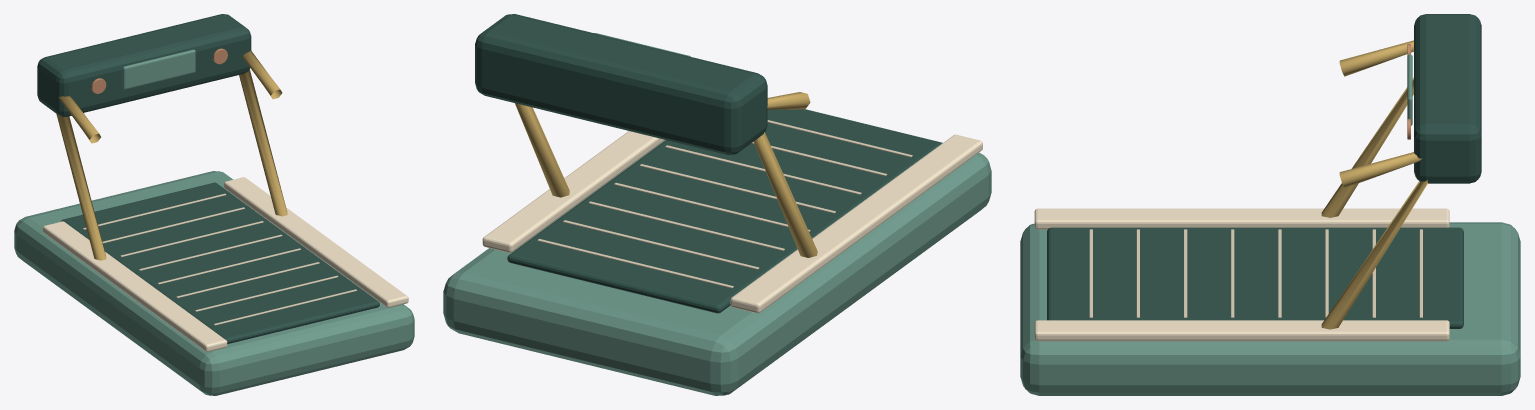
File: treadmill.glb
The picture shows the model from 3 angles, left to right: view 1: azimuth 30°, elevation 25°; view 2: azimuth 150°, elevation 25°; view 3: azimuth 270°, elevation 25°; orthographic projection. The views are drawn at different scales.
Visible parts, largest first — view 1: treadmill / Dark hardware, treadmill / Sea glass upholstery, treadmill / Ivory stone, treadmill / Brass, treadmill / Linen shadow, treadmill / Terracotta cushion; view 2: treadmill / Dark hardware, treadmill / Sea glass upholstery, treadmill / Ivory stone, treadmill / Linen shadow, treadmill / Brass; view 3: treadmill / Dark hardware, treadmill / Sea glass upholstery, treadmill / Ivory stone, treadmill / Brass, treadmill / Linen shadow.
Boxes of the visible parts, x1,y1,x2,y2 form: treadmill / Dark hardware: [37, 14, 379, 343]; treadmill / Sea glass upholstery: [14, 49, 414, 395]; treadmill / Ivory stone: [42, 177, 408, 351]; treadmill / Brass: [56, 51, 287, 260]; treadmill / Linen shadow: [83, 193, 356, 325]; treadmill / Terracotta cushion: [91, 48, 227, 93]; treadmill / Dark hardware: [475, 14, 941, 313]; treadmill / Sea glass upholstery: [443, 33, 991, 395]; treadmill / Ivory stone: [482, 131, 982, 313]; treadmill / Linen shadow: [537, 120, 912, 288]; treadmill / Brass: [515, 92, 817, 257]; treadmill / Dark hardware: [1047, 14, 1481, 328]; treadmill / Sea glass upholstery: [1020, 54, 1520, 395]; treadmill / Ivory stone: [1034, 208, 1449, 341]; treadmill / Brass: [1321, 40, 1427, 329]; treadmill / Linen shadow: [1089, 229, 1422, 317].
Size of the model in its own units: 1.65 by 1.56 by 2.65.
